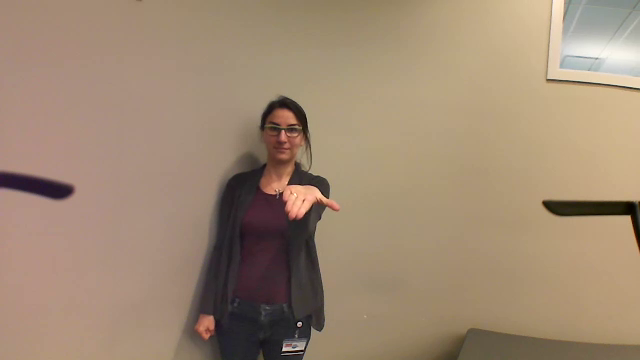land: (268, 173, 342, 229)
